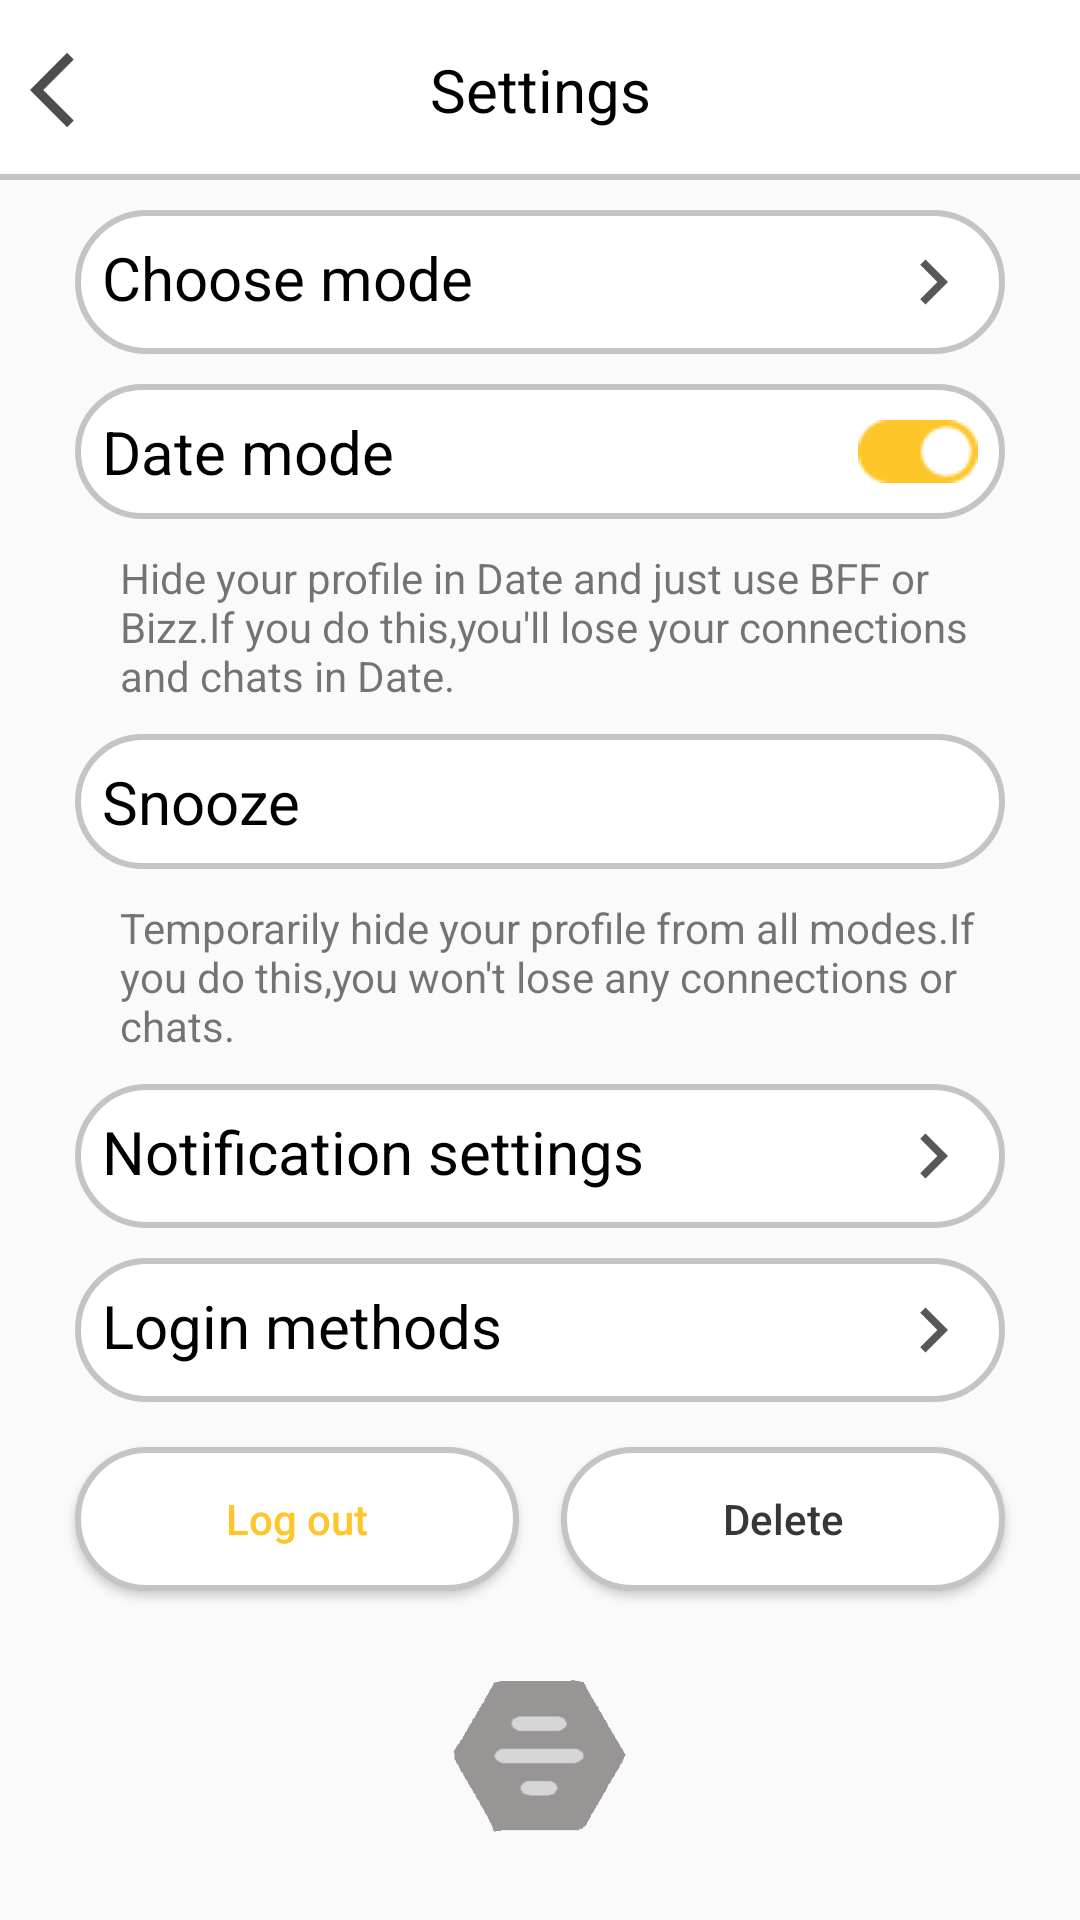

Named icons in this screenshot (1080px×1920px) and their centers, [x,y]:
arrow back: [52,90]
